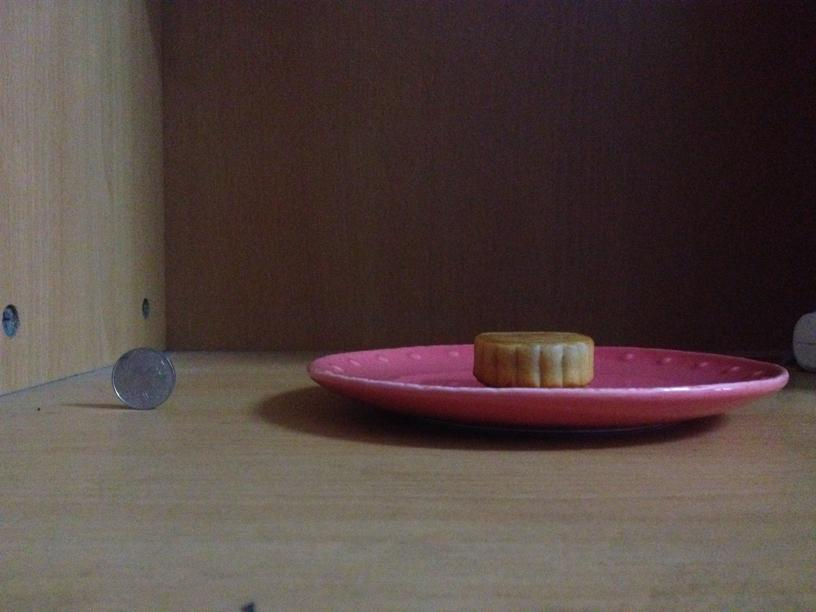coin: (112, 345, 175, 411)
mooncake: (476, 329, 594, 387)
